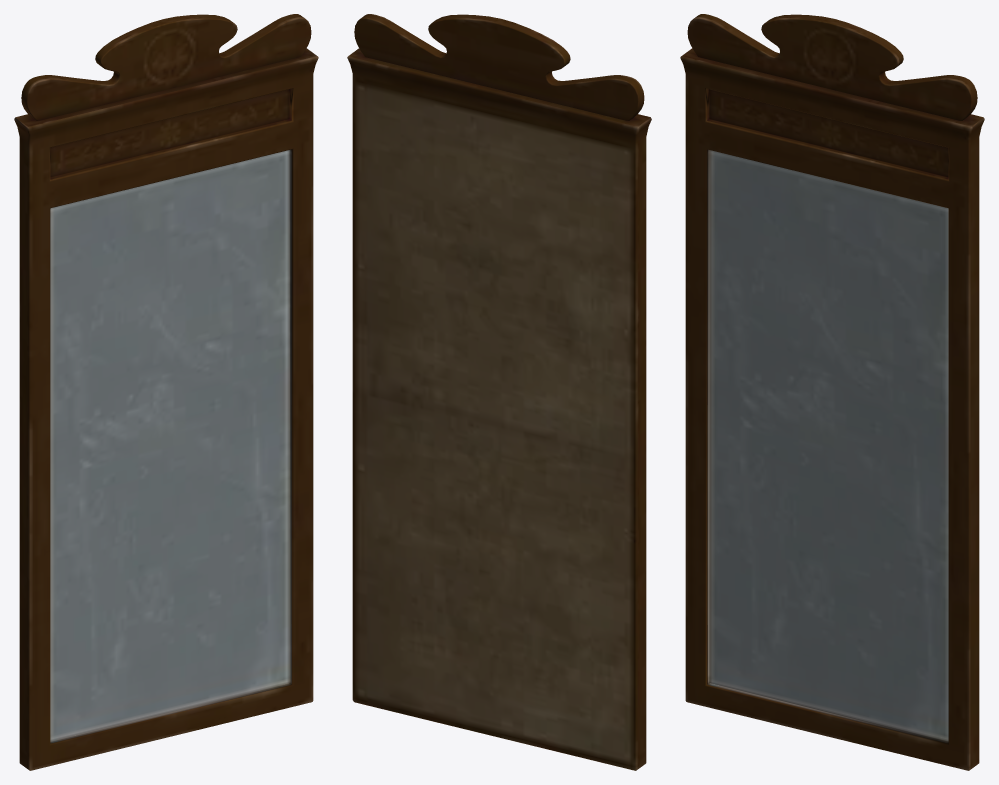
File: SM_floor_mirror_7a88c7.glb
3 views of the same model, side by side, from view 1: azimuth 30°, elevation 25°; view 2: azimuth 150°, elevation 25°; view 3: azimuth 330°, elevation 25° (orthographic).
Bounding box in the file's own units: 0.8103 × 1.89 × 0.0714.
1 material, 1 textured.
